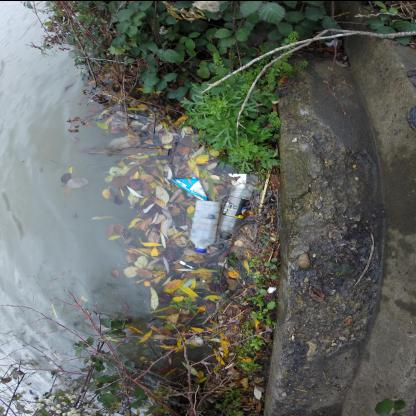plastik: (219, 181, 254, 239), (190, 198, 222, 252)
